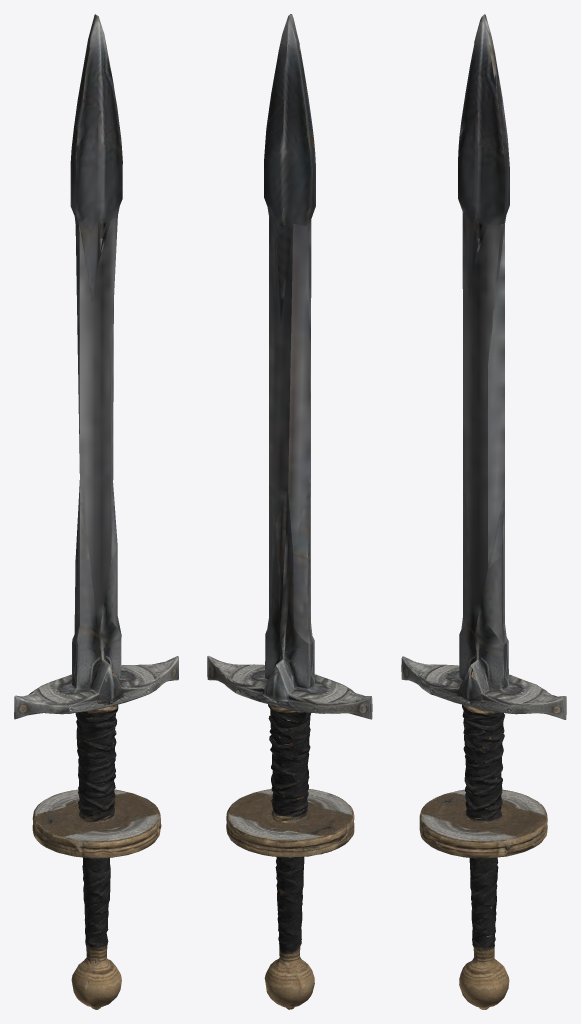
Rendered from weapon-longsword.glb.
The picture shows the model from 3 angles, left to right: view 1: azimuth 30°, elevation 25°; view 2: azimuth 150°, elevation 25°; view 3: azimuth 330°, elevation 25°; orthographic projection.
Bounding box in the file's own units: 0.1651 × 0.9524 × 0.1115.
Materials: 1 (1 with a texture image).
